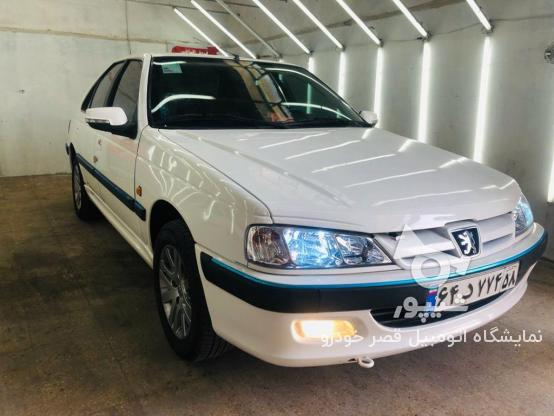car: (427, 259, 518, 311)
